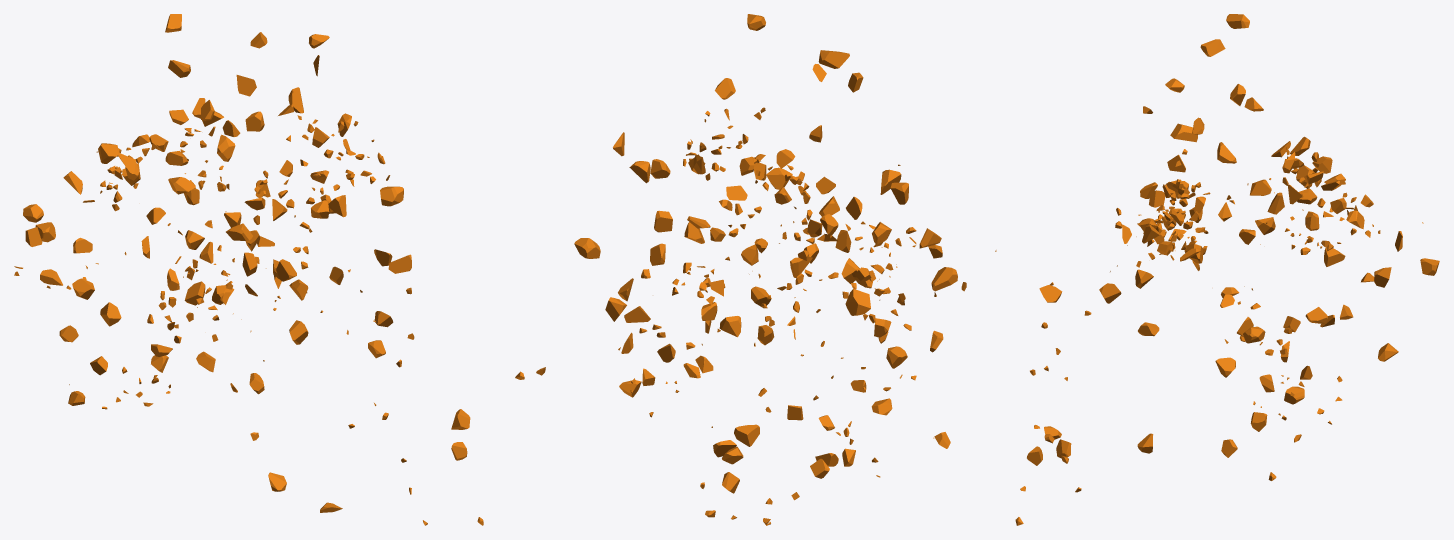
The model's file is Explode_Cube.f0015.glb.
3 views of the same model, side by side, from view 1: azimuth 30°, elevation 25°; view 2: azimuth 150°, elevation 25°; view 3: azimuth 270°, elevation 25° (orthographic). The views are drawn at different scales.
Parts seen in each view (by area): view 1: no part large enough to name; view 2: Cube.125_cell.033, Cube.125_cell.075; view 3: no part large enough to name.
Part boxes in pixels (x1,y1,x2,y2): Cube.125_cell.033: [845, 289, 870, 315]; Cube.125_cell.075: [931, 267, 957, 291].
Size of the model in its own units: 8.55 by 9.59 by 9.04.
